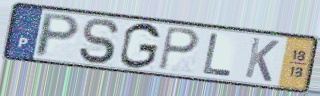G: (117, 21, 162, 71)
K: (242, 36, 281, 84)
L: (201, 32, 234, 79)
P: (32, 12, 83, 59), (157, 25, 201, 72)
S: (77, 17, 122, 66)
